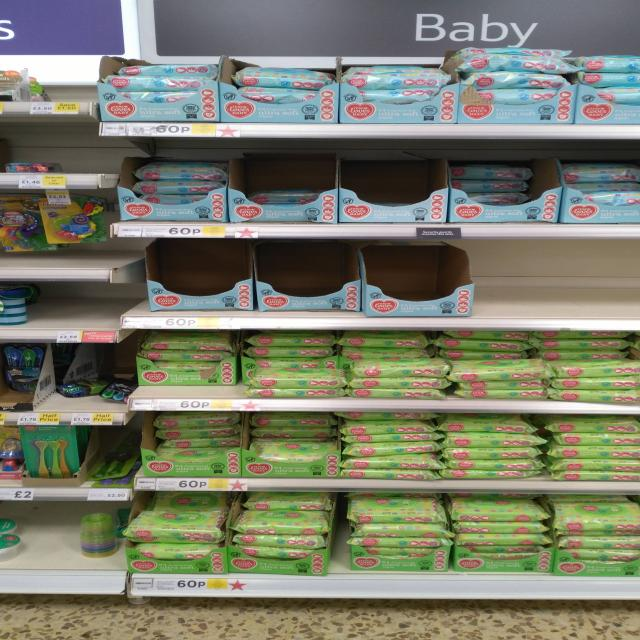void: (548, 238, 634, 330), (483, 238, 542, 332), (52, 499, 107, 594), (0, 507, 53, 596), (48, 58, 94, 118), (81, 283, 118, 348), (4, 60, 41, 119), (64, 122, 93, 192), (39, 290, 72, 344)
